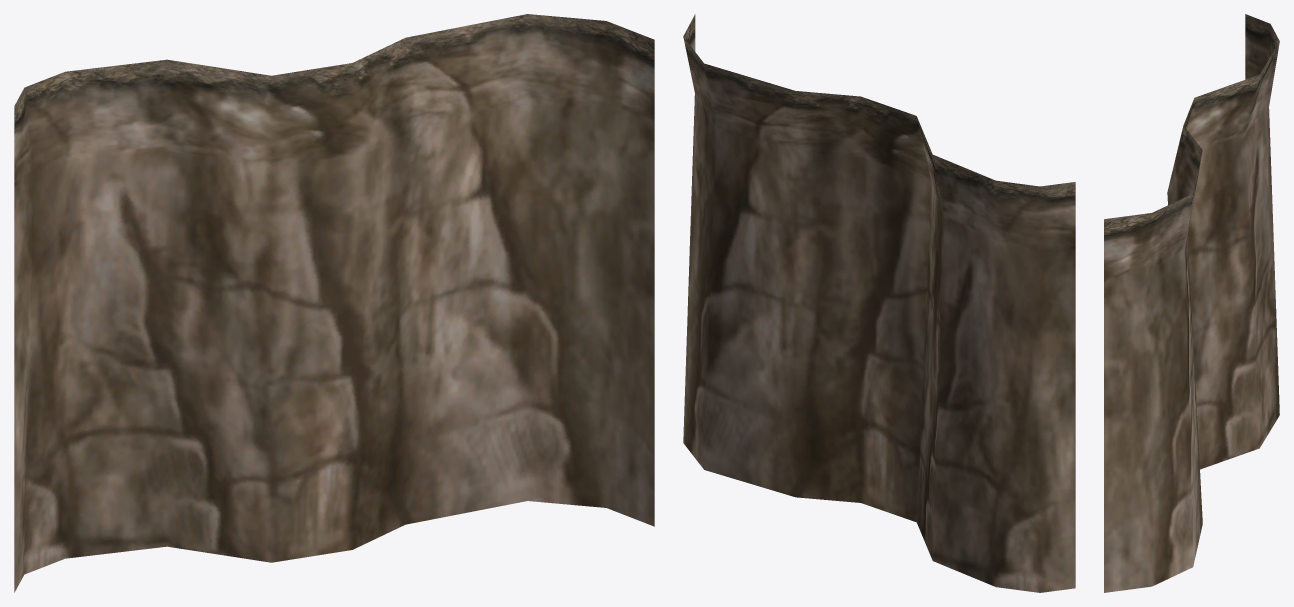
The model's file is OVERHILL_A_01_LINE120.fbx.
The picture shows the model from 3 angles, left to right: view 1: azimuth 30°, elevation 25°; view 2: azimuth 150°, elevation 25°; view 3: azimuth 270°, elevation 25°; orthographic projection. The views are drawn at different scales.
Parts seen in each view (by area): view 1: OVERHILL_A_01_LINE120; view 2: OVERHILL_A_01_LINE120; view 3: OVERHILL_A_01_LINE120.
Part boxes in pixels (x1,y1,x2,y2): OVERHILL_A_01_LINE120: [14, 14, 654, 592]; OVERHILL_A_01_LINE120: [683, 14, 1075, 592]; OVERHILL_A_01_LINE120: [1104, 14, 1279, 592].
Size of the model in its own units: 42193 by 35835 by 15272.
2 materials, 2 textured.
